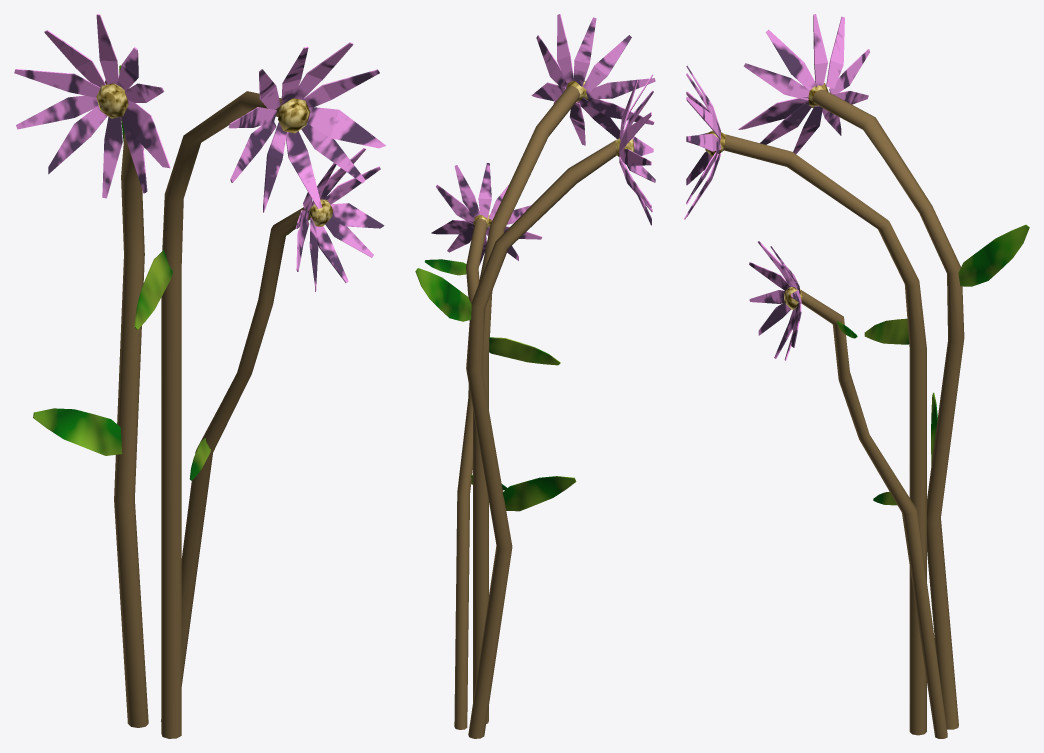
Rendered from PinkFlower.fbx.
3 renders of one model, left to right at view 1: azimuth 30°, elevation 25°; view 2: azimuth 150°, elevation 25°; view 3: azimuth 270°, elevation 25°, orthographic. The views are drawn at different scales.
Parts seen in each view (by area): view 1: Circle.005; view 2: Circle.005; view 3: Circle.005.
Part boxes in pixels (x1,y1,x2,y2): Circle.005: (14,14,385,738); Circle.005: (415,14,655,738); Circle.005: (684,14,1029,738).
Size of the model in its own units: 0.5565 by 1.31 by 0.6192.
Materials: 1 (1 with a texture image).
